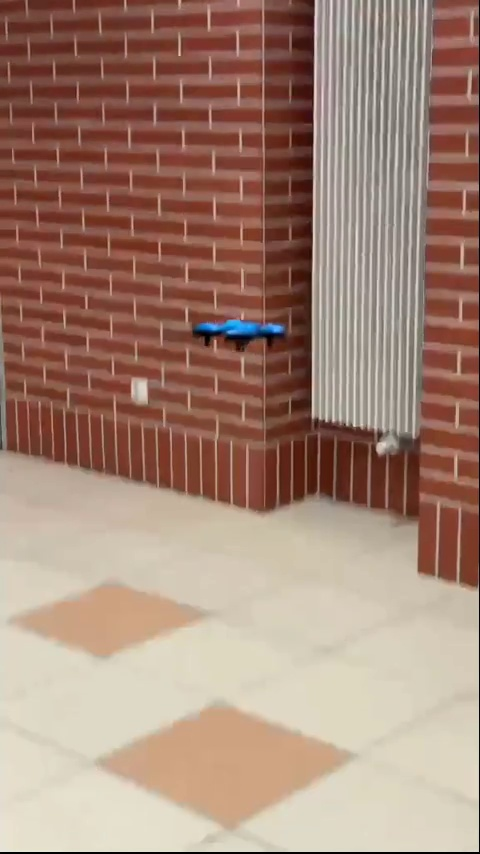drone: (192, 315, 286, 352)
